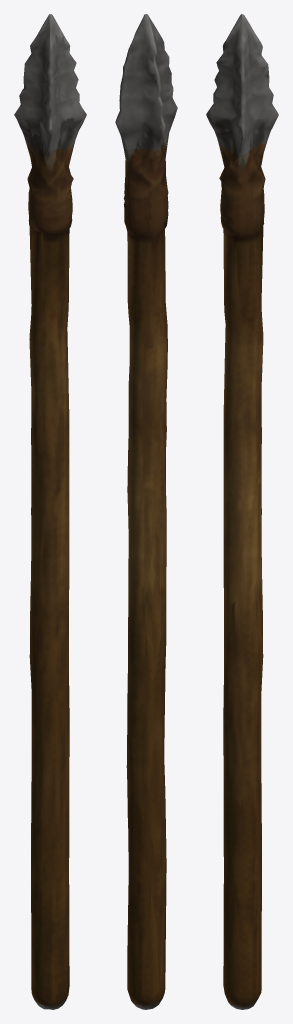
3 views of the same model, side by side, from view 1: azimuth 90°, elevation 25°; view 2: azimuth 210°, elevation 25°; view 3: azimuth 270°, elevation 25° (orthographic).
Parts seen in each view (by area): view 1: flint-spear.001; view 2: flint-spear.001; view 3: flint-spear.001.
Boxes of the visible parts, bbox=[...] form: flint-spear.001: bbox=[14, 14, 86, 1009]; flint-spear.001: bbox=[115, 14, 177, 1009]; flint-spear.001: bbox=[206, 14, 278, 1009].
Size of the model in its own units: 0.1367 by 2.1 by 0.1396.
Materials: 2 (2 with a texture image).
